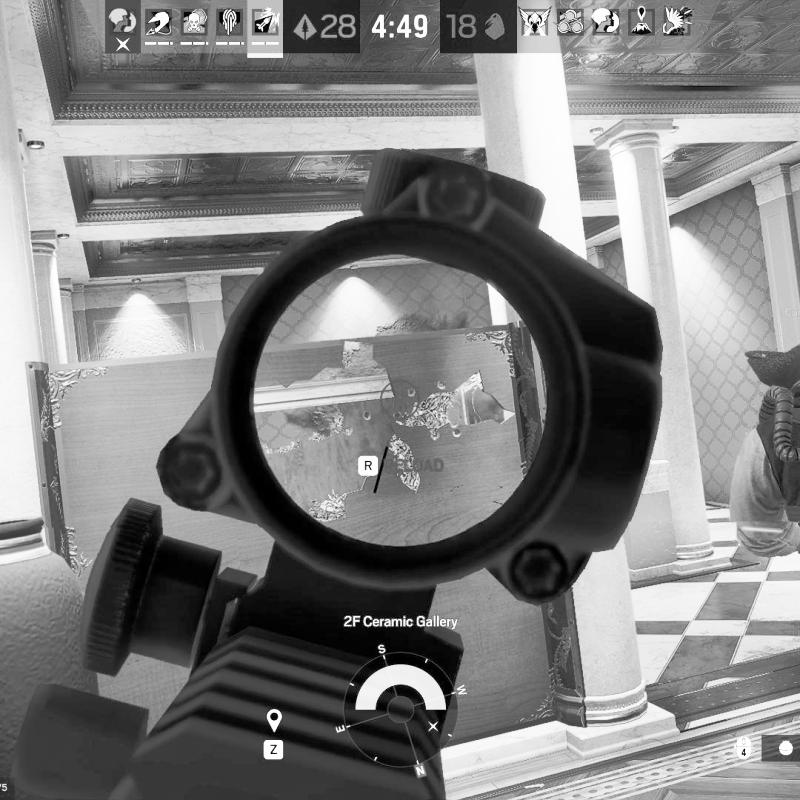Character: (727, 340, 800, 561)
